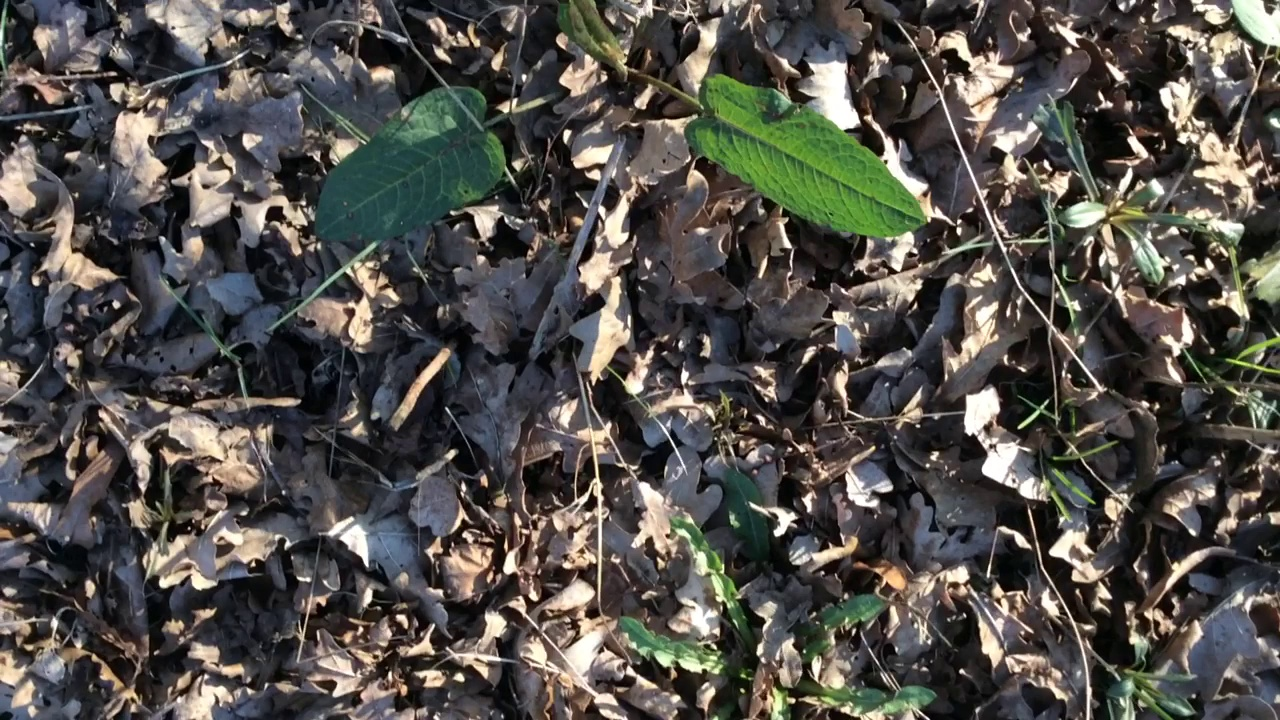rumex: (314, 1, 927, 240)
